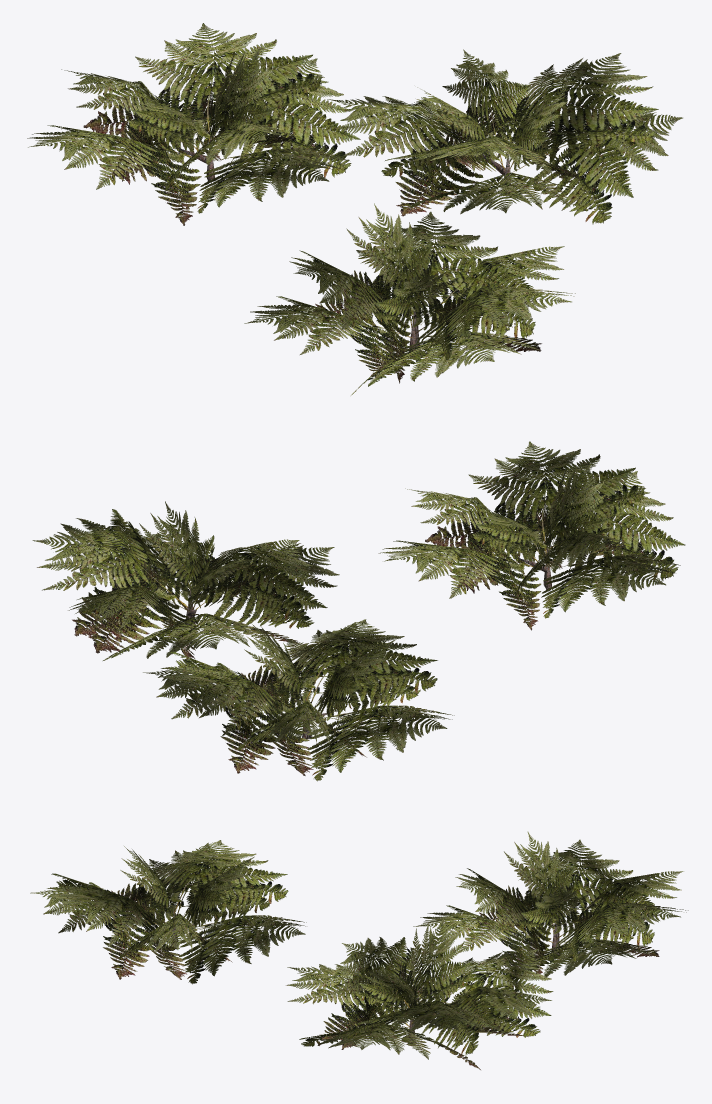
The model's file is NW_NATURE_FARNTEPPICH_306P.glb.
3 renders of one model, top to bottom at view 1: azimuth 30°, elevation 25°; view 2: azimuth 150°, elevation 25°; view 3: azimuth 270°, elevation 25°, orthographic. The views are drawn at different scales.
Visible parts, largest first — view 1: Mesh; view 2: Mesh; view 3: Mesh.
Boxes of the visible parts, bbox=[...] form: Mesh: bbox=[27, 23, 682, 395]; Mesh: bbox=[32, 441, 685, 781]; Mesh: bbox=[30, 831, 688, 1069].
Size of the model in its own units: 11.89 by 3.03 by 15.18.
Materials: 2 (2 with a texture image).
